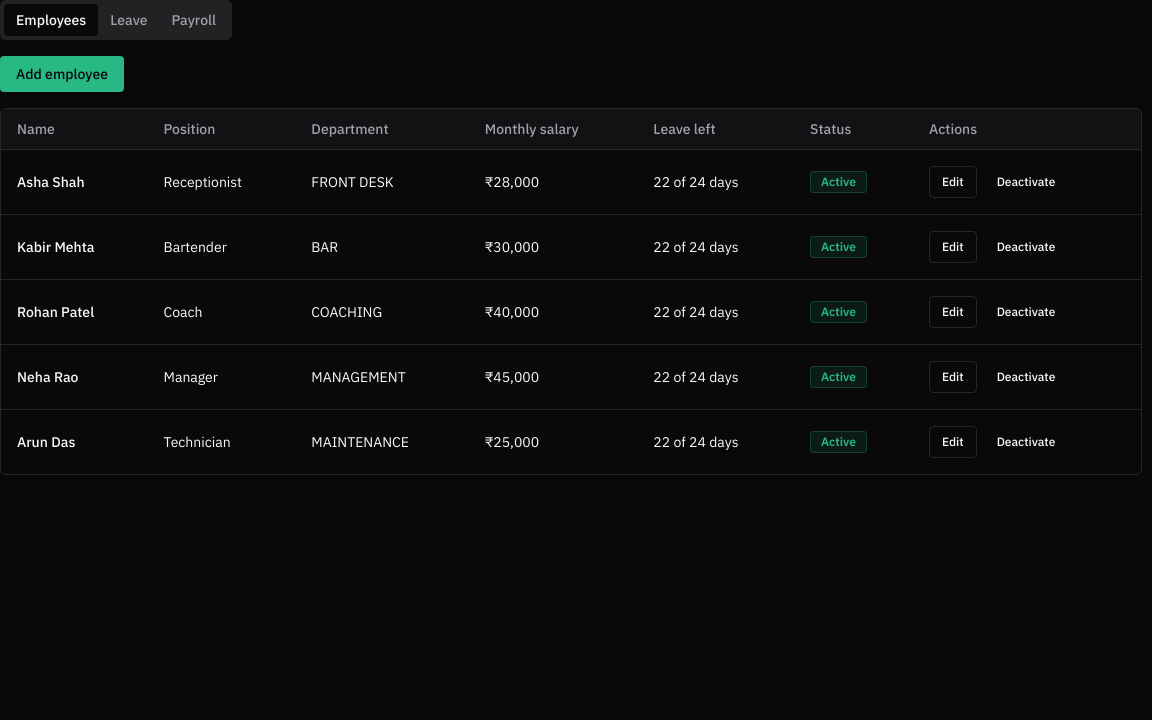
it: Staff workspace: allowance, deactivation and leave balance › sends the yearly allowance when an employee is edited
The width and height of the screenshot is (1152, 720).
Click the button with aria-label "Edit Asha Shah": (953, 182) [929, 166, 977, 198]
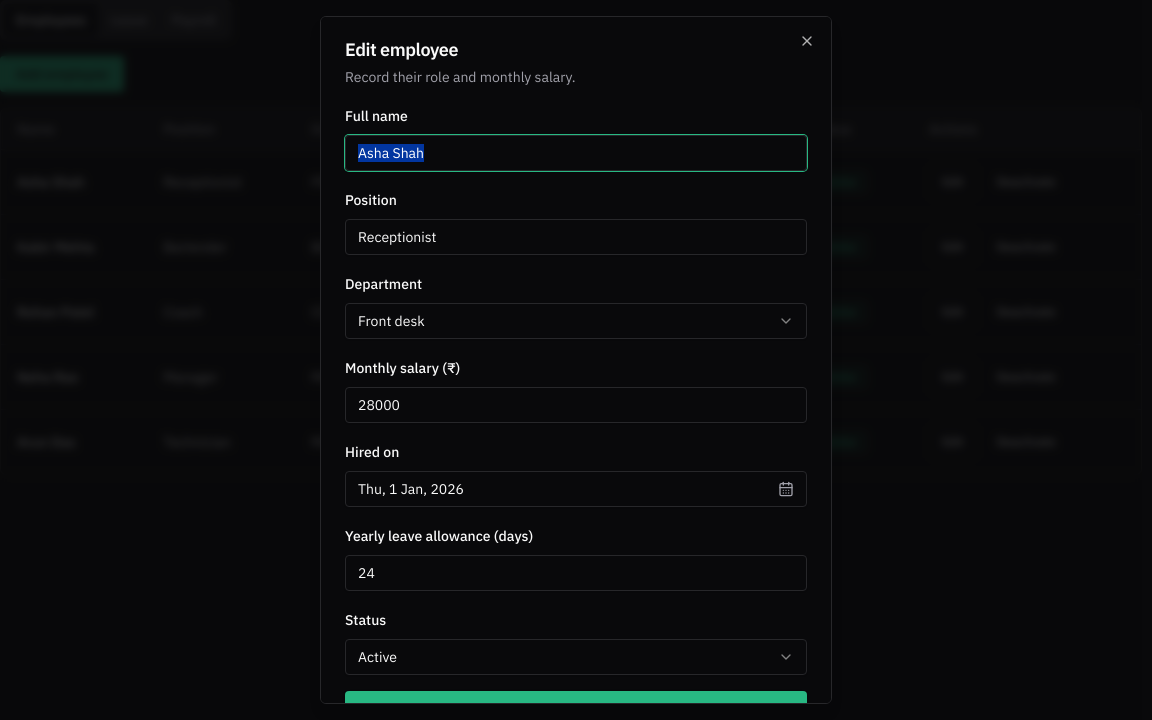
Now the number field labelled "Yearly leave allowance (days)" holds "24"
Replace the text in the number field labelled "Yearly leave allowance (days)" with "30": (576, 573) [345, 555, 807, 591]
(page scrolled)
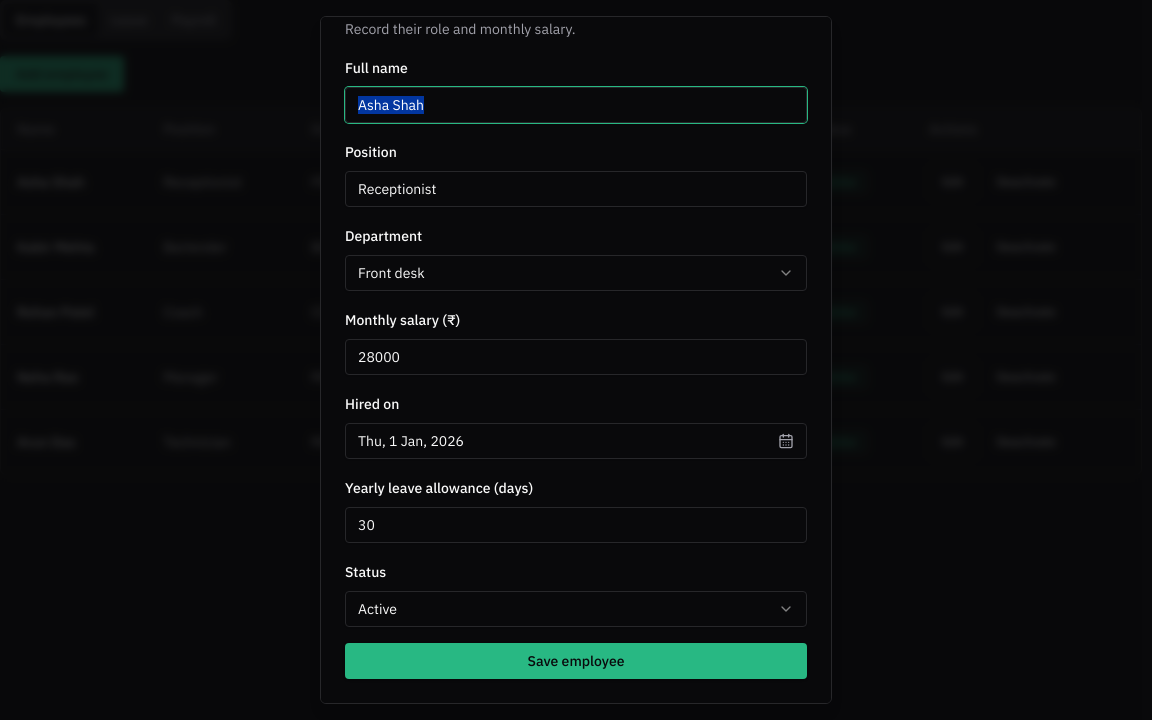
Click the button "Save employee": (576, 661) [345, 643, 807, 679]
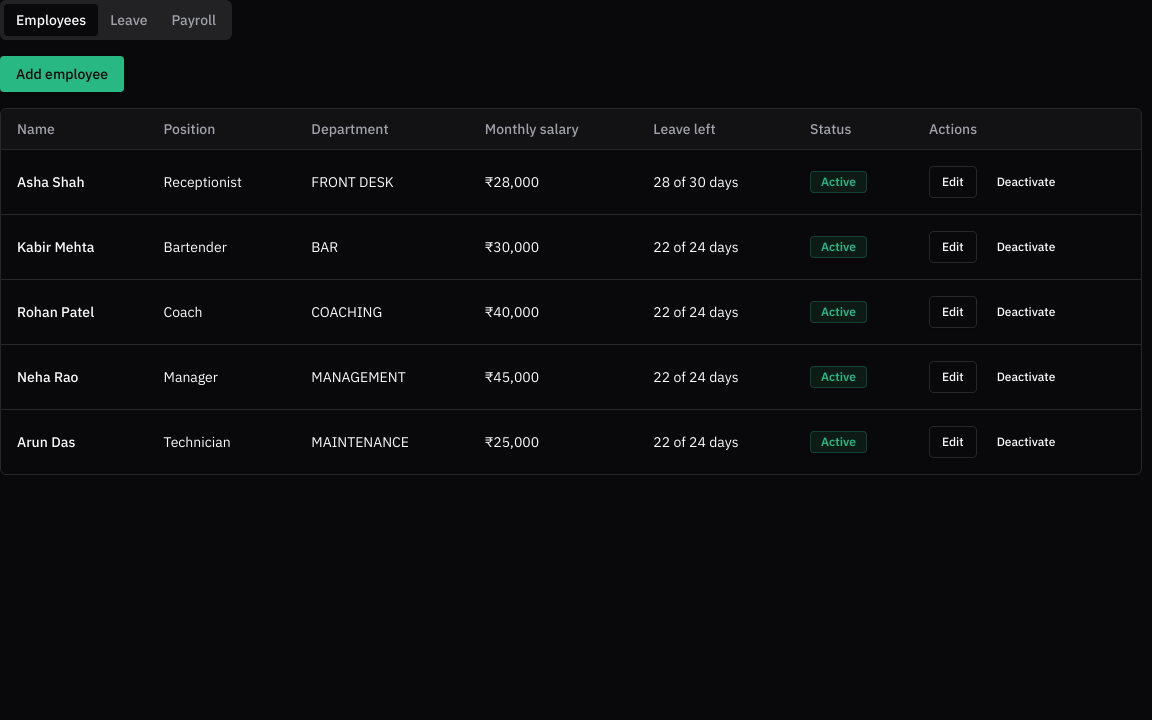
Now the text "28 of 30 days" is shown, box [637, 149, 794, 214]
